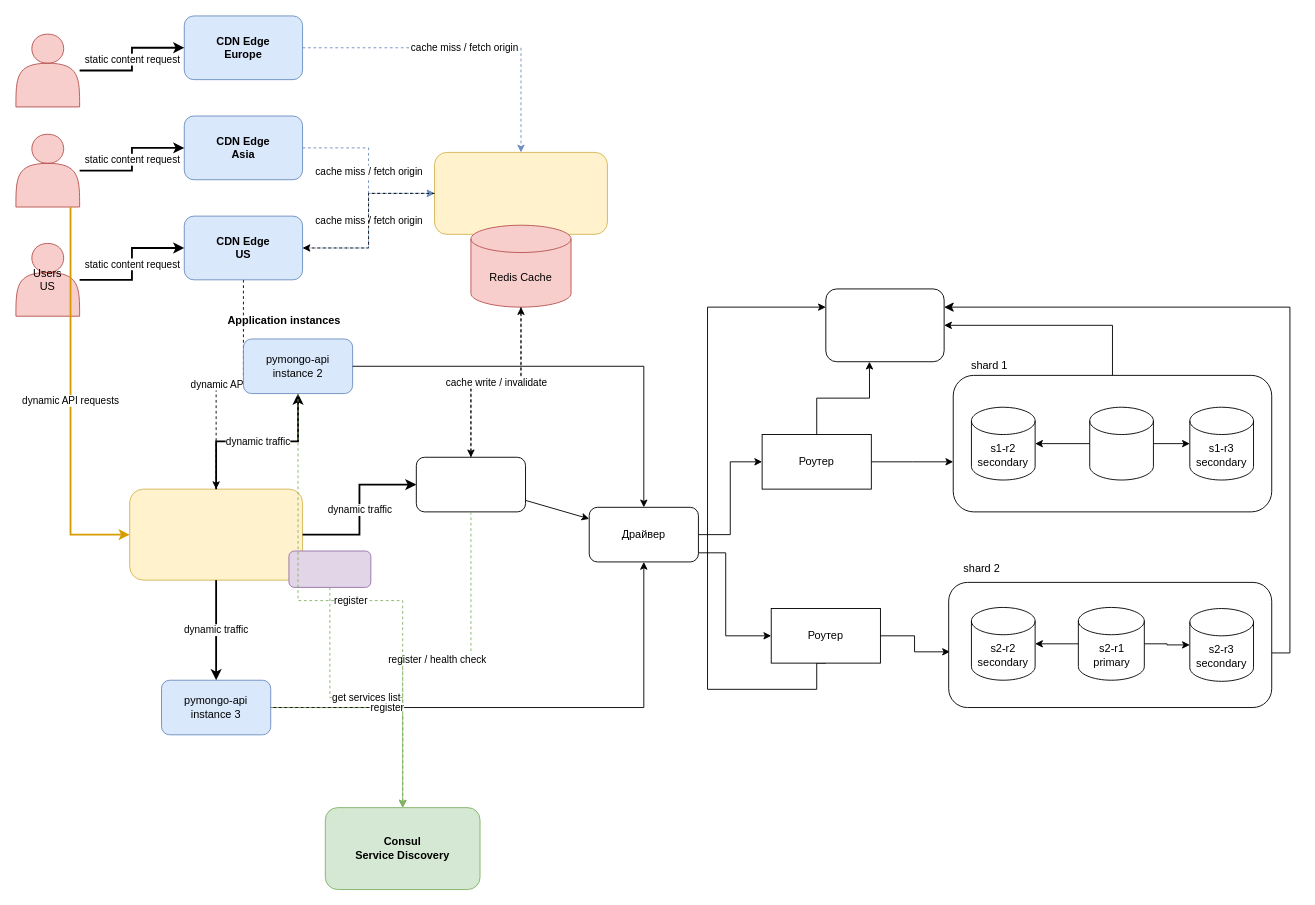
The diagram is 1315 pixels wide and 905 high, and some of its shapes have lost their labels. Here are the shapes that lost their labels. From the top down, the box of each, then its label:
(15, 33, 80, 107): Users Europe
(15, 133, 80, 207): Users Asia
(434, 152, 607, 234): Static content origin React/Nginx assets JS, CSS, images
(825, 288, 944, 362): Конфигурационный сервер
(1089, 406, 1153, 480): s1-r1 primary
(415, 456, 526, 512): pymongo-api instance 1
(129, 488, 303, 580): APISIX Gateway Load Balancer
(288, 550, 371, 587): consul_kv
